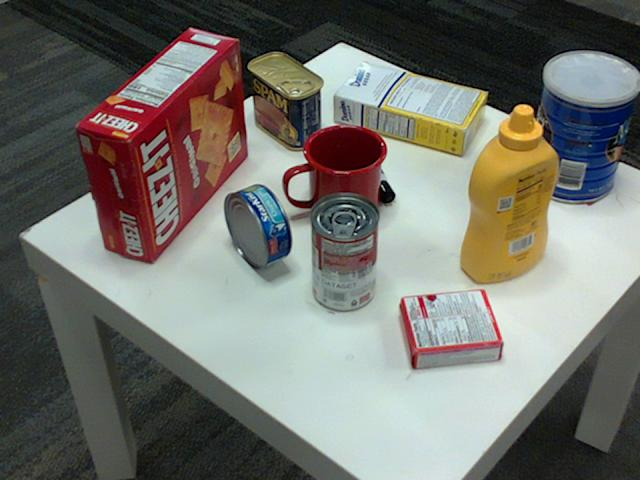cracker_box: (75, 25, 248, 260)
gelatin_box: (397, 290, 503, 369)
large_marker: (352, 137, 394, 202)
master_chef_can: (526, 51, 639, 203)
mug: (285, 122, 388, 224)
mustard_bottle: (459, 105, 559, 281)
potted_meat_can: (245, 53, 322, 150)
sugar_box: (334, 61, 490, 154)
tomato_soup_can: (310, 193, 379, 311)
tuna_fish_can: (225, 184, 292, 269)
